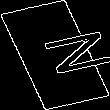N_W: (11, 28, 99, 82)
